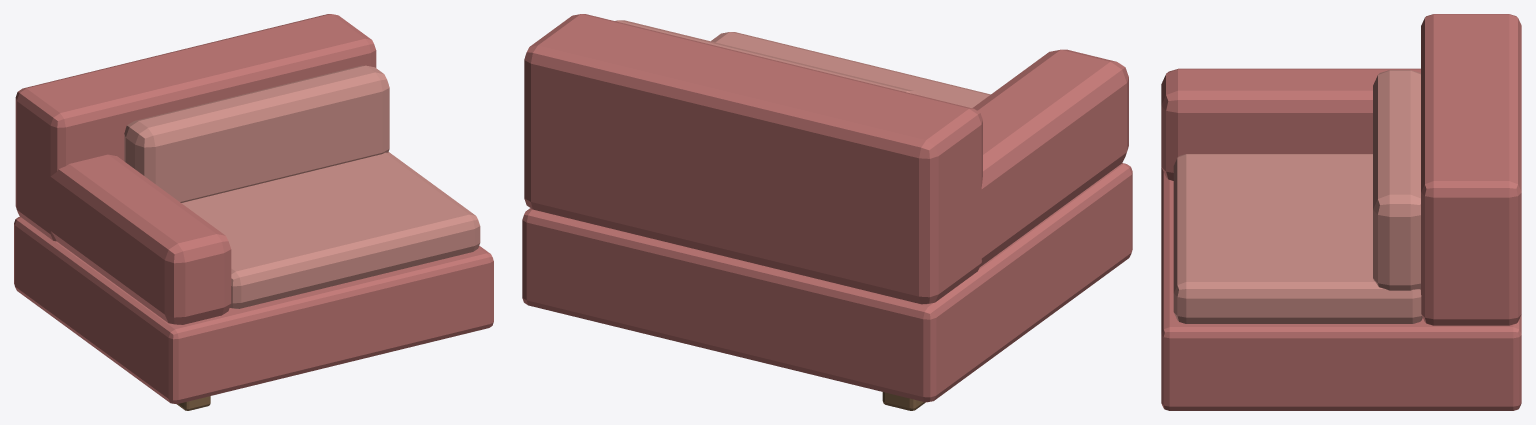
File: sofa_left.glb
The picture shows the model from 3 angles, left to right: view 1: azimuth 30°, elevation 25°; view 2: azimuth 150°, elevation 25°; view 3: azimuth 270°, elevation 25°; orthographic projection. The views are drawn at different scales.
Parts seen in each view (by area): view 1: sofa_left; view 2: sofa_left; view 3: sofa_left.
Boxes of the visible parts, x1,y1,x2,y2 form: sofa_left: (14, 14, 493, 410); sofa_left: (522, 14, 1132, 410); sofa_left: (1161, 14, 1521, 410).
Bounding box in the file's own units: 1 × 0.64 × 0.86.
